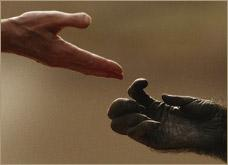finger: (59, 42, 127, 73)
